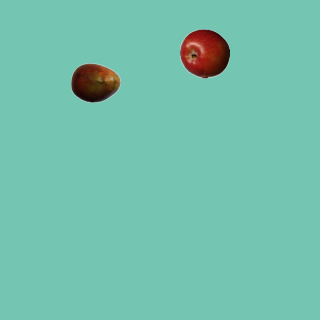Apple Braeburn: (179, 28, 229, 78)
Mango Red: (70, 57, 120, 107)
